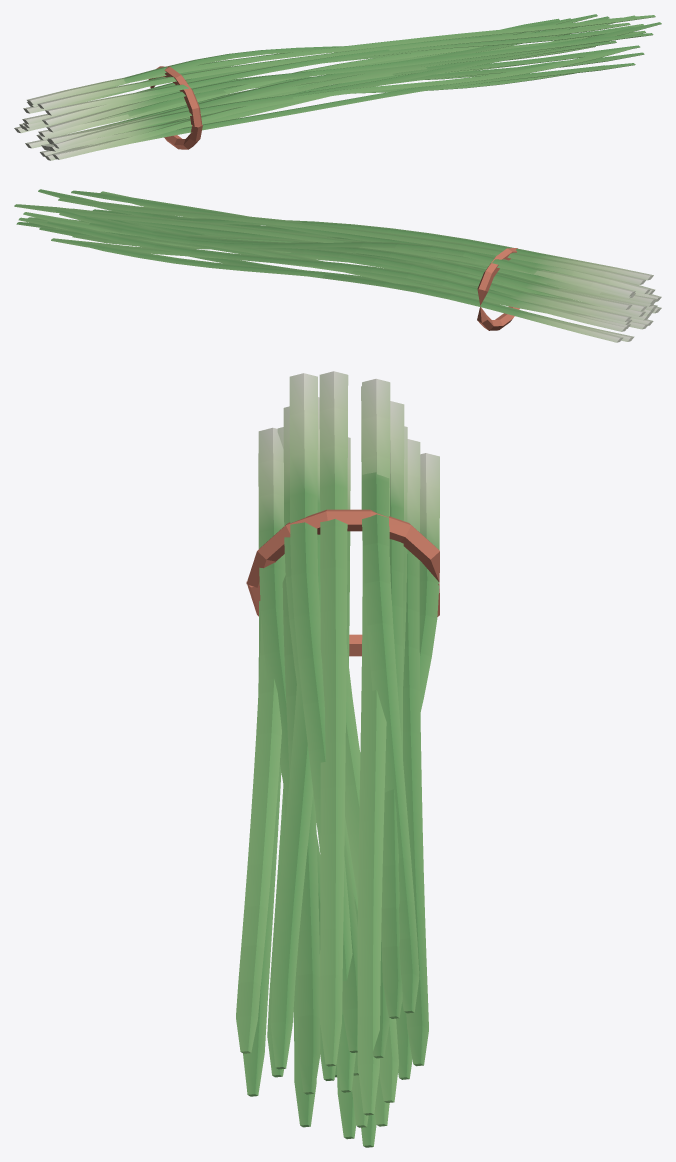
Rendered from chive.glb.
3 renders of one model, top to bottom at view 1: azimuth 30°, elevation 25°; view 2: azimuth 150°, elevation 25°; view 3: azimuth 270°, elevation 25°, orthographic. The views are drawn at different scales.
Parts seen in each view (by area): view 1: chive; view 2: chive; view 3: chive.
Boxes of the visible parts, x1,y1,x2,y2 form: chive: (14,14,661,160); chive: (14,189,661,342); chive: (236,371,439,1147).
Size of the model in its own units: 2.2 by 0.3216 by 0.314.
